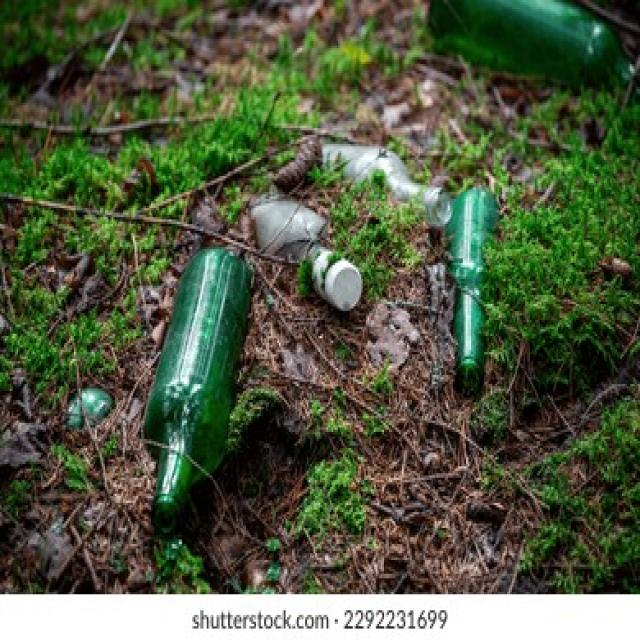glass: (128, 247, 269, 500), (418, 160, 506, 405), (426, 9, 636, 94)
plastic: (274, 121, 415, 309)
